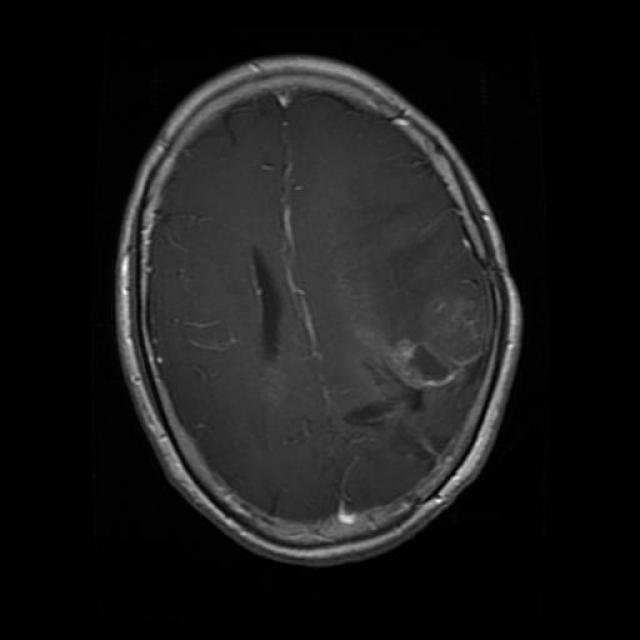Brain-Tumor: (358, 283, 522, 431)
